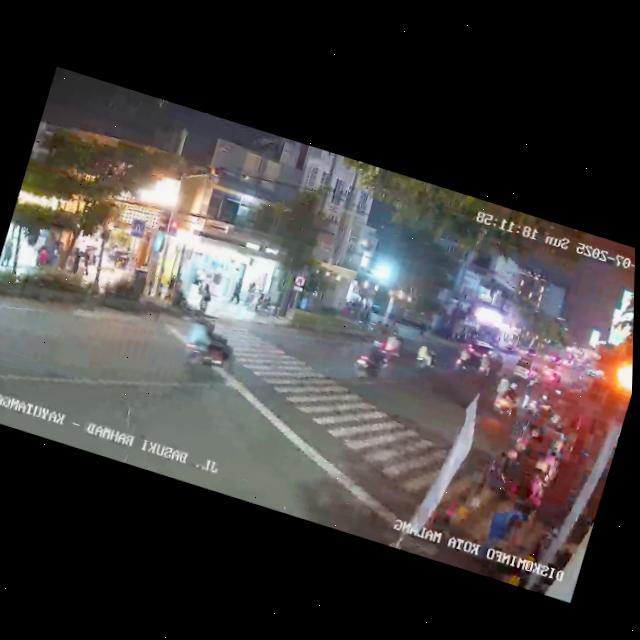car: (462, 335, 508, 374)
motorcycle: (174, 312, 246, 387), (350, 329, 398, 386), (489, 375, 523, 423), (451, 339, 480, 377), (411, 340, 440, 375), (474, 348, 502, 383)
person: (77, 247, 97, 284), (195, 281, 215, 316), (0, 236, 17, 272), (67, 246, 85, 279), (242, 279, 259, 311), (31, 244, 49, 274), (229, 278, 245, 306)
